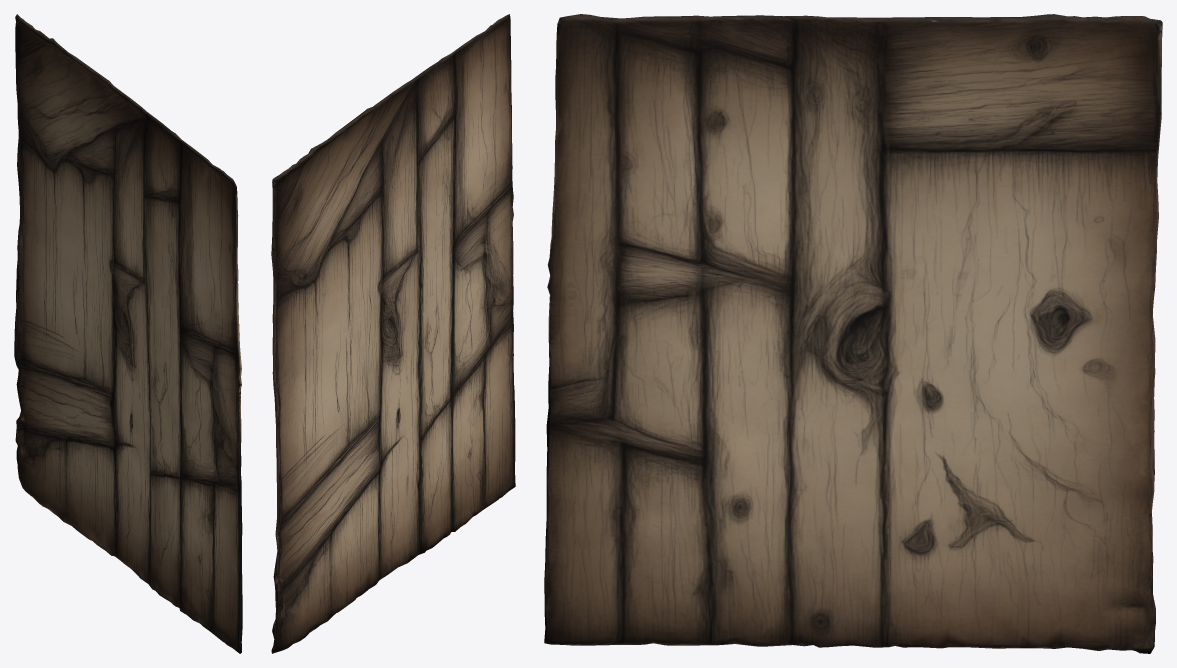
The model's file is Bark_Texture_0226141321_texture.fbx.
The picture shows the model from 3 angles, left to right: view 1: azimuth 30°, elevation 25°; view 2: azimuth 150°, elevation 25°; view 3: azimuth 270°, elevation 25°; orthographic projection. The views are drawn at different scales.
Parts seen in each view (by area): view 1: Mesh1_Mesh1.038; view 2: Mesh1_Mesh1.038; view 3: Mesh1_Mesh1.038.
Part boxes in pixels (box(x1,y1,x2,y2)): Mesh1_Mesh1.038: box(14, 14, 242, 653); Mesh1_Mesh1.038: box(271, 14, 515, 653); Mesh1_Mesh1.038: box(544, 14, 1162, 653).
Size of the model in its own units: 6.67 by 200 by 177.
Materials: 1 (1 with a texture image).
